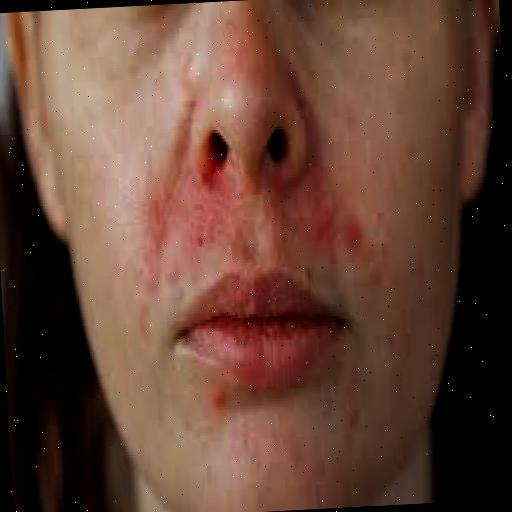Skin_Lesion: (138, 244, 168, 289), (208, 387, 239, 424), (146, 192, 174, 232), (194, 158, 214, 202), (344, 214, 363, 255), (313, 206, 333, 237), (192, 232, 218, 252), (218, 168, 228, 204)
